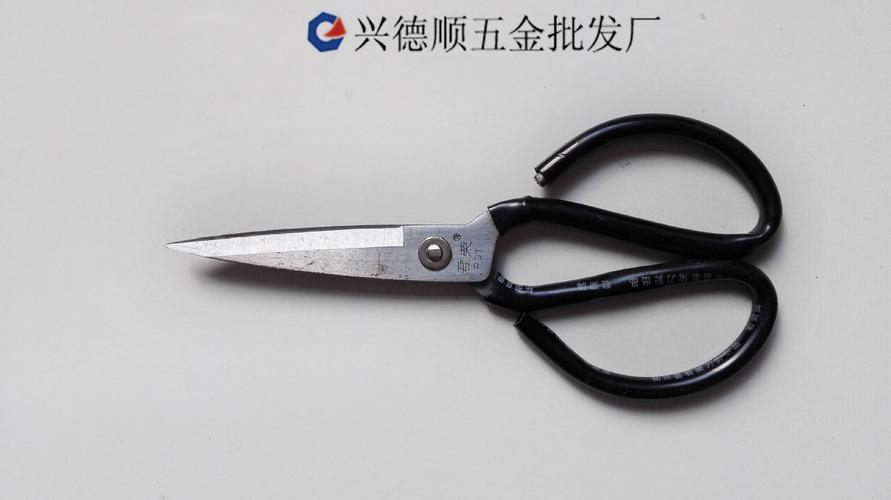scissor: (163, 109, 797, 414)
